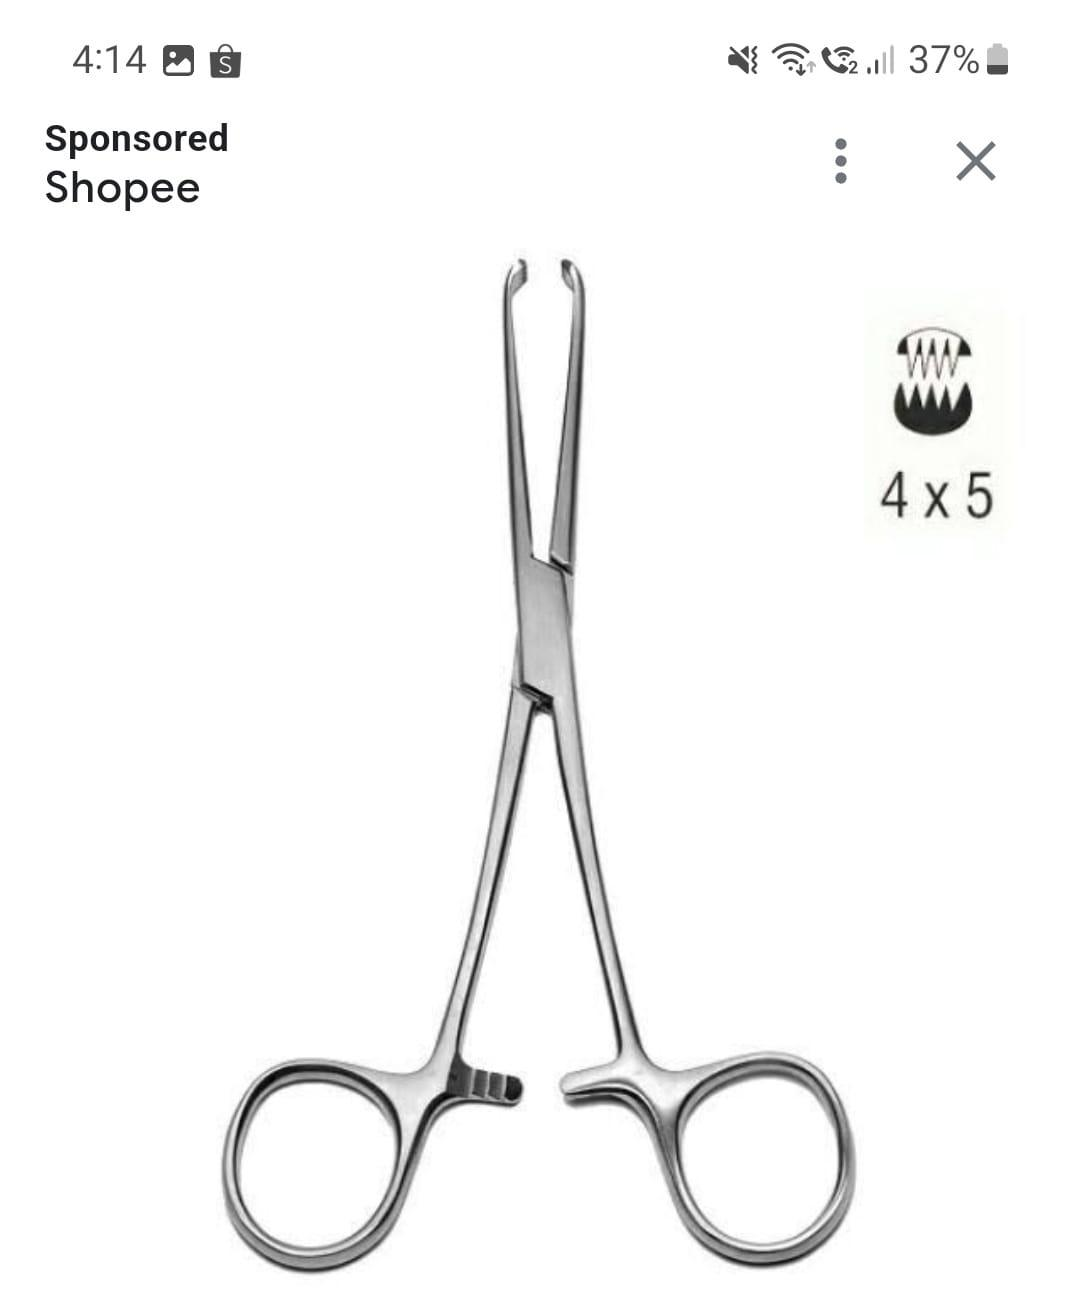Allis Forceps: (212, 244, 872, 1286)
